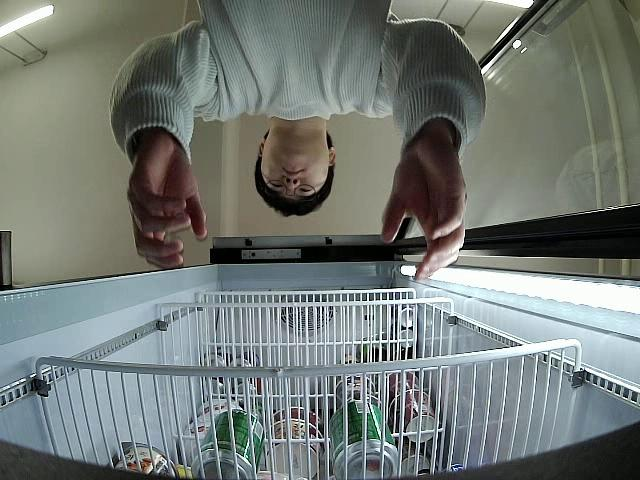00_hand: (381, 138, 467, 283), (127, 140, 208, 269)
